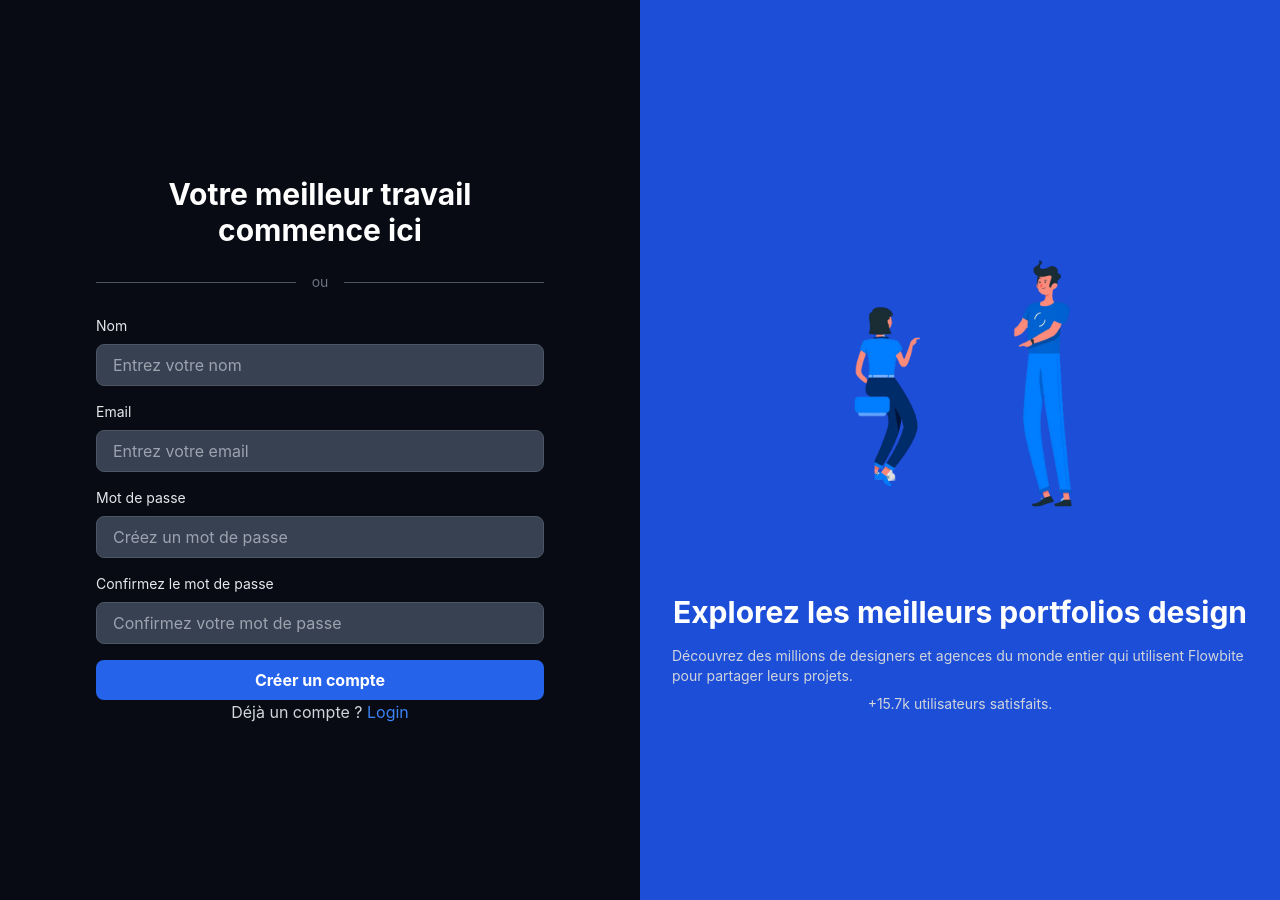
Register Component › validates password length
Type "123" into the password field labelled "Mot de passe".
click(320, 537); type("123")  # box left=96, top=516, right=544, bottom=558
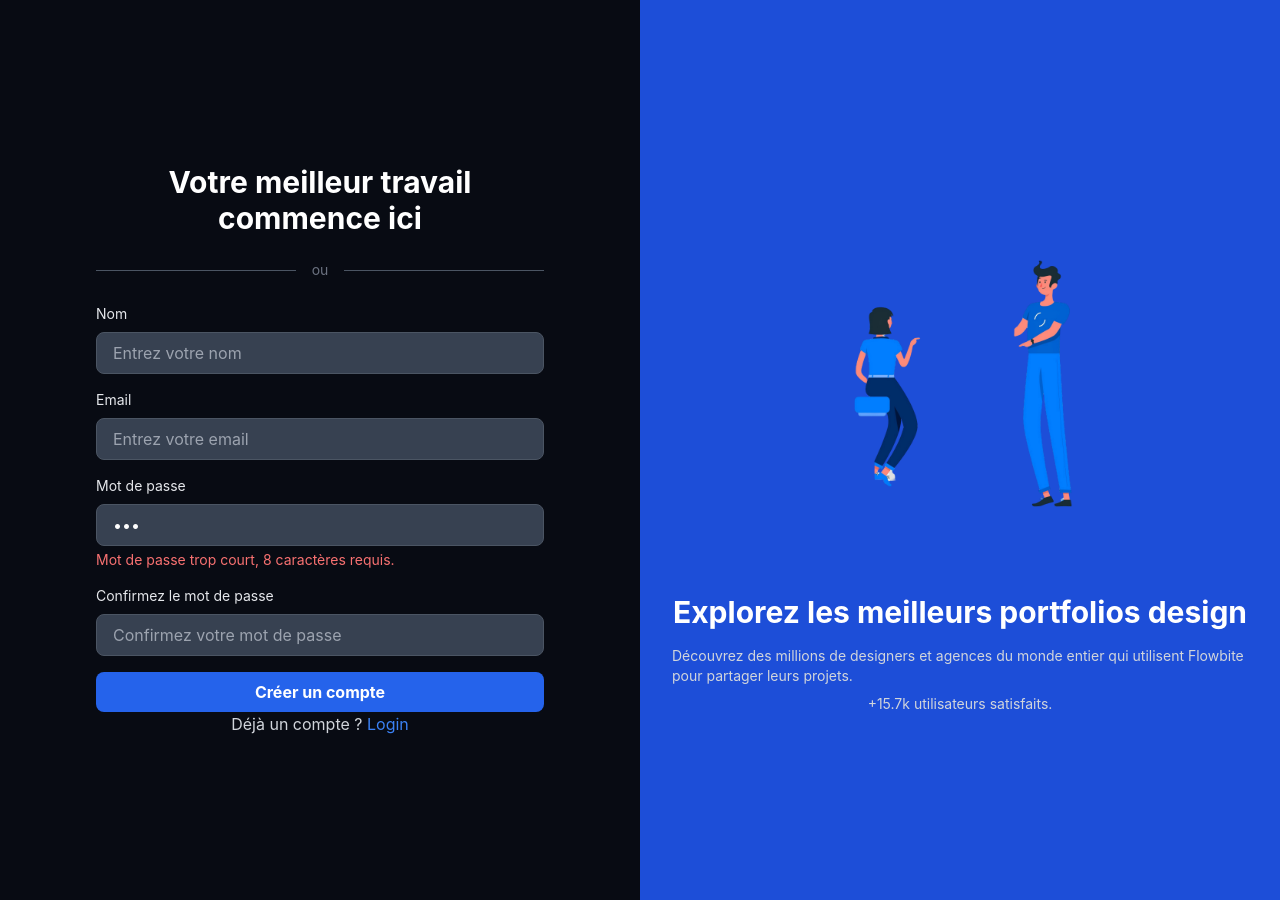
Now the text "Mot de passe trop court, 8 caractères requis." is shown, box left=96, top=551, right=395, bottom=568
Type "12345678" into the password field labelled "Mot de passe".
click(320, 525); type("12345678")  # box left=96, top=504, right=544, bottom=546
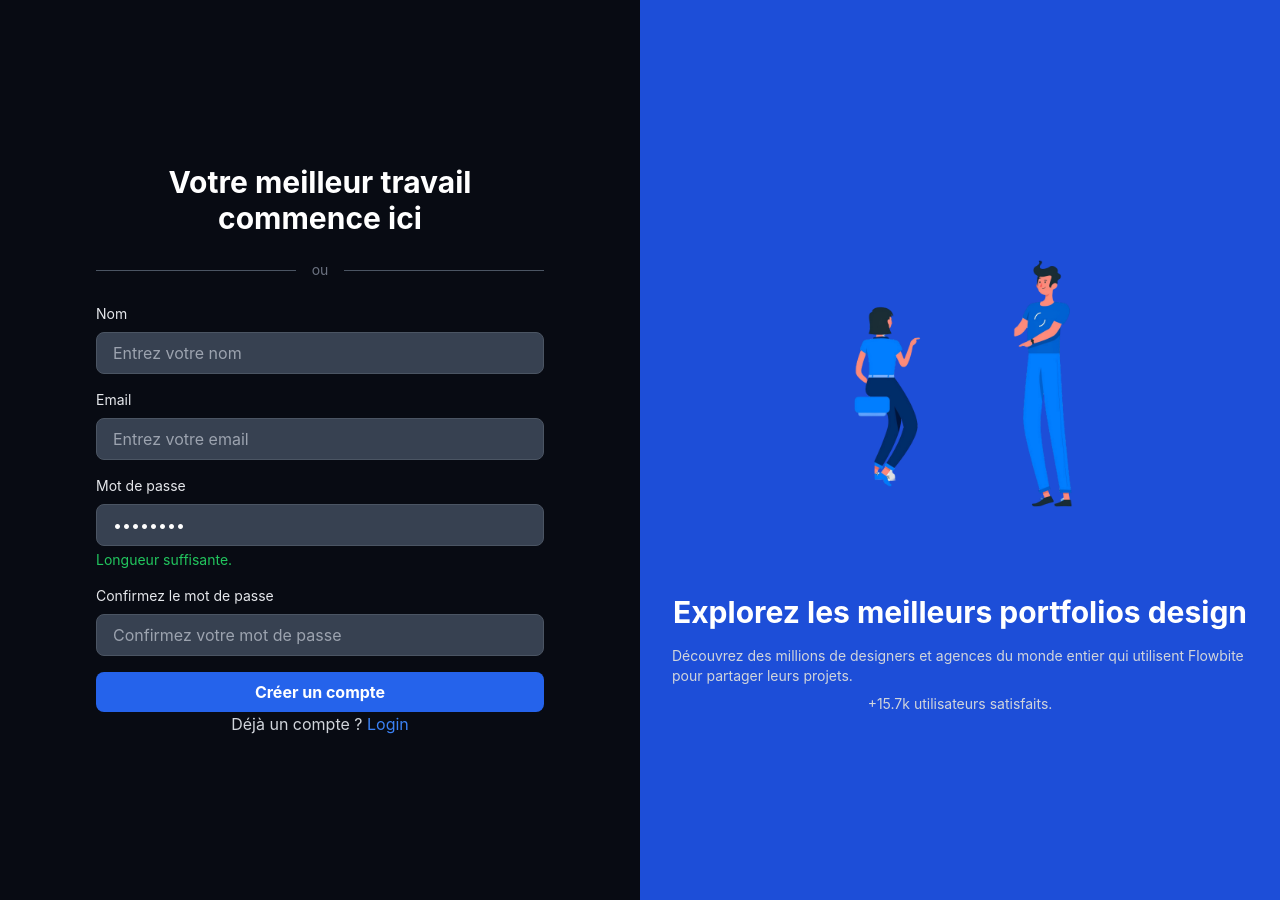
Now the text "Longueur suffisante." is shown, box left=96, top=551, right=232, bottom=568
